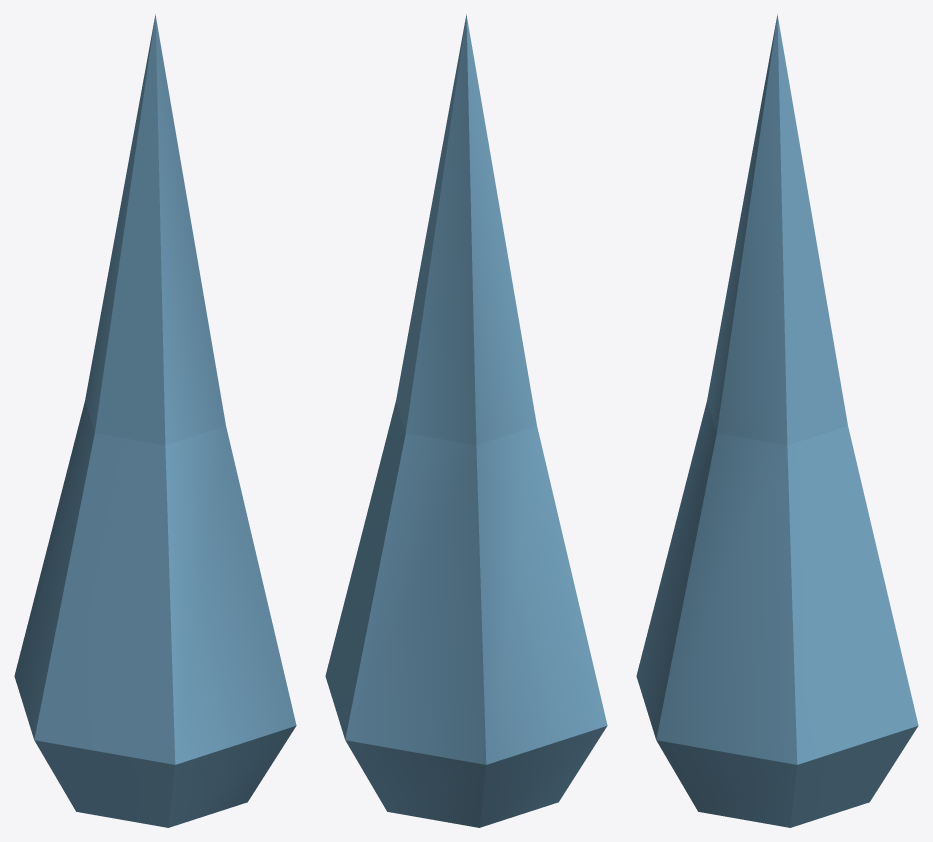
The model's file is 2083_InfusedStones_Cryo_ExpandingIceRidge_76.fbx.
3 views of the same model, side by side, from view 1: azimuth 30°, elevation 25°; view 2: azimuth 150°, elevation 25°; view 3: azimuth 270°, elevation 25° (orthographic).
Visible parts, largest first — view 1: PART_ExpandingIceRidge_76; view 2: PART_ExpandingIceRidge_76; view 3: PART_ExpandingIceRidge_76.
Boxes of the visible parts, x1=… form: PART_ExpandingIceRidge_76: x1=14, y1=14, x2=296, y2=827; PART_ExpandingIceRidge_76: x1=325, y1=14, x2=607, y2=827; PART_ExpandingIceRidge_76: x1=636, y1=14, x2=918, y2=827.
Bounding box in the file's own units: 51.56 × 145 × 48.02.
